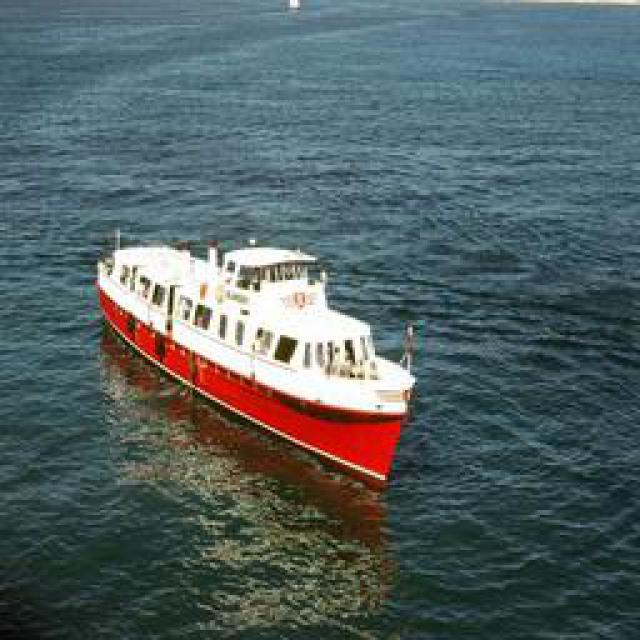Ship: (95, 235, 415, 495)
